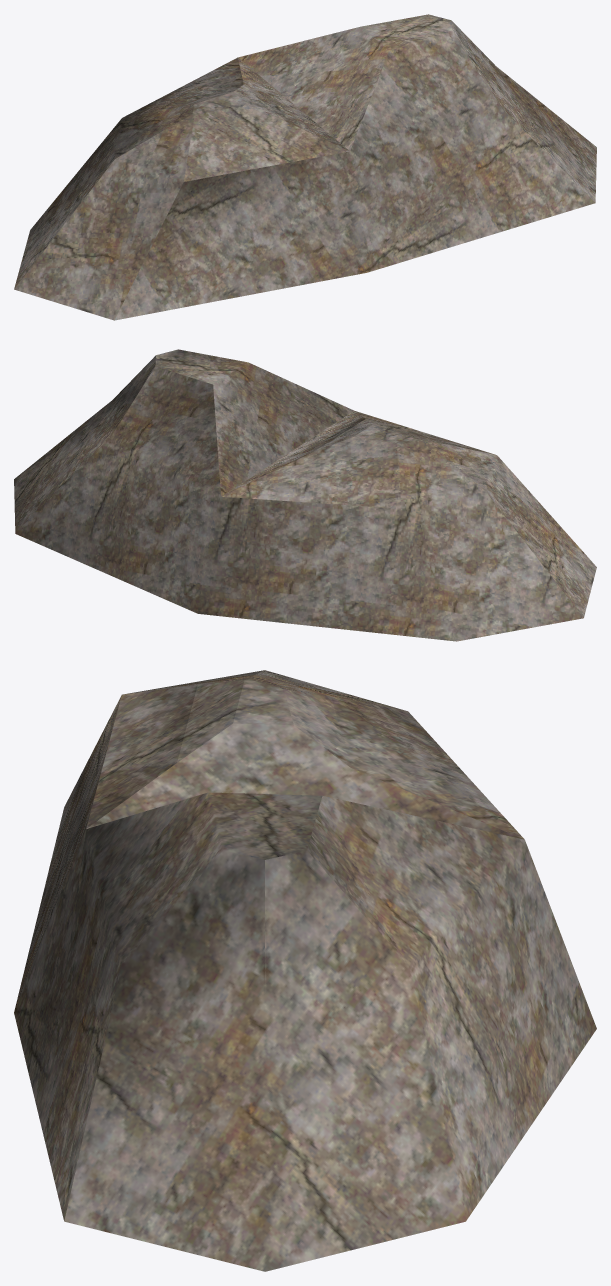
Rendered from RckS01.glb.
The picture shows the model from 3 angles, top to bottom: view 1: azimuth 30°, elevation 25°; view 2: azimuth 150°, elevation 25°; view 3: azimuth 270°, elevation 25°; orthographic projection. The views are drawn at different scales.
Parts seen in each view (by area): view 1: _RckS01; view 2: _RckS01; view 3: _RckS01.
Boxes of the visible parts, x1,y1,x2,y2 form: _RckS01: (14, 14, 596, 320); _RckS01: (14, 349, 596, 641); _RckS01: (14, 670, 596, 1271).
Size of the model in its own units: 13.32 by 3.55 by 6.54.
1 material, 1 textured.
